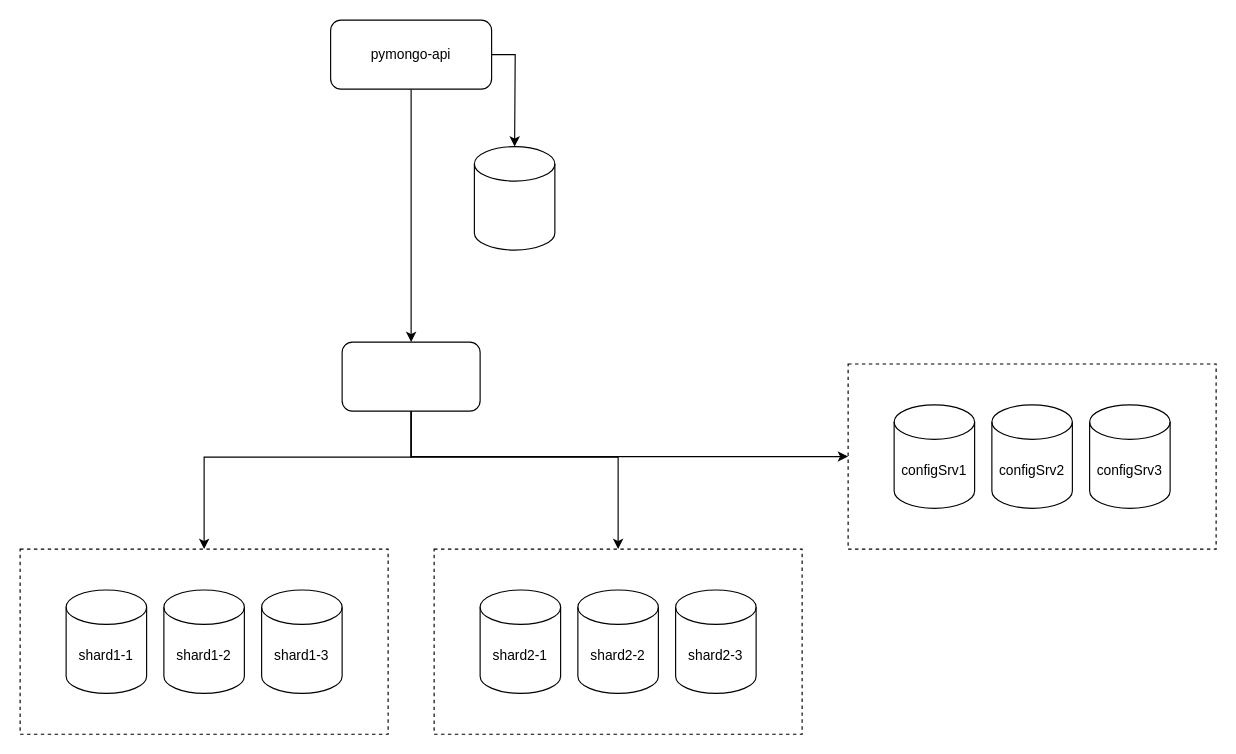
This 1236x754 diagram has some shape labels left out. Here are the shapes that lost their labels. From the top down, the centre of each, then its label:
At point 514,197: "redis".
At point 410,376: "mongos".
